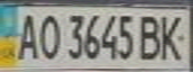3: (63, 11, 84, 61)
4: (100, 11, 121, 60)
5: (115, 11, 139, 61)
6: (81, 11, 103, 61)
A: (12, 9, 42, 61)
B: (136, 11, 166, 61)
K: (157, 11, 190, 62)
O: (33, 10, 60, 61)
